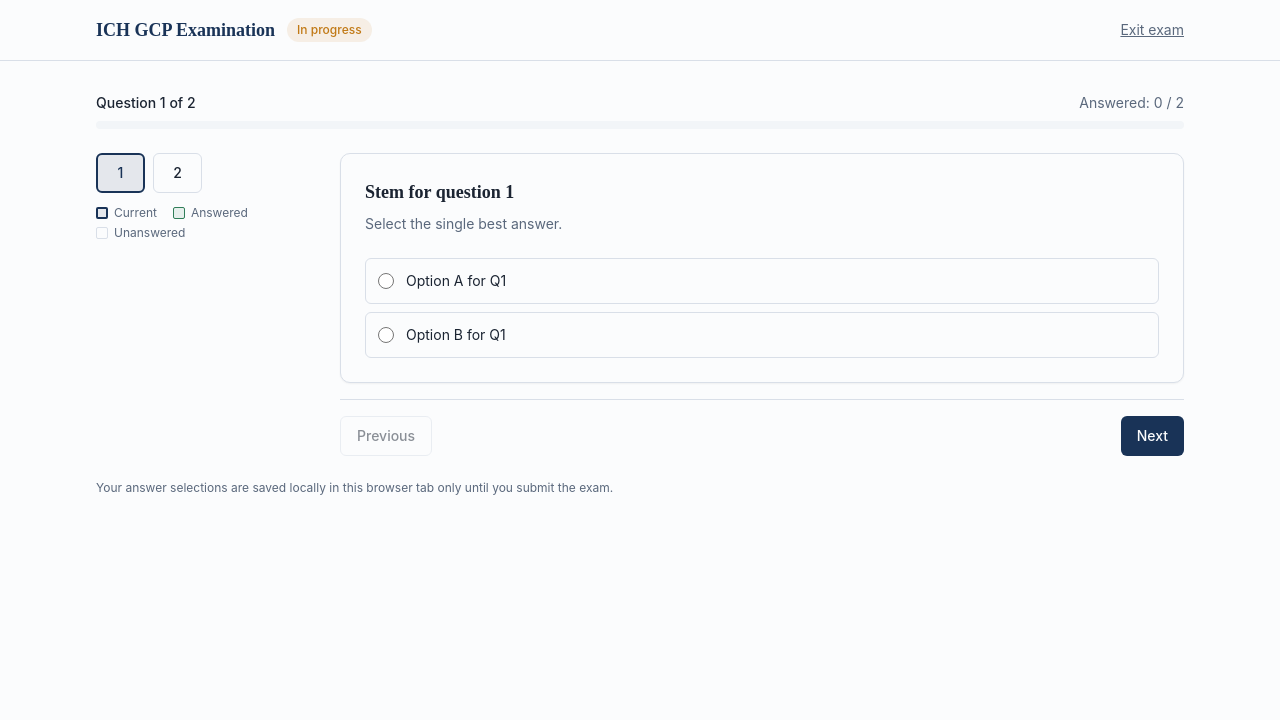
it: Exam attempt page › Gate 7D: submission › retains local answers, shows a retryable error, and never claims success on a network failure
Expected: the heading "Stem for question 1" is shown, [365,182,514,202]
Click the button "Next" at coordinates (1152, 436), box [1121,416,1184,456]
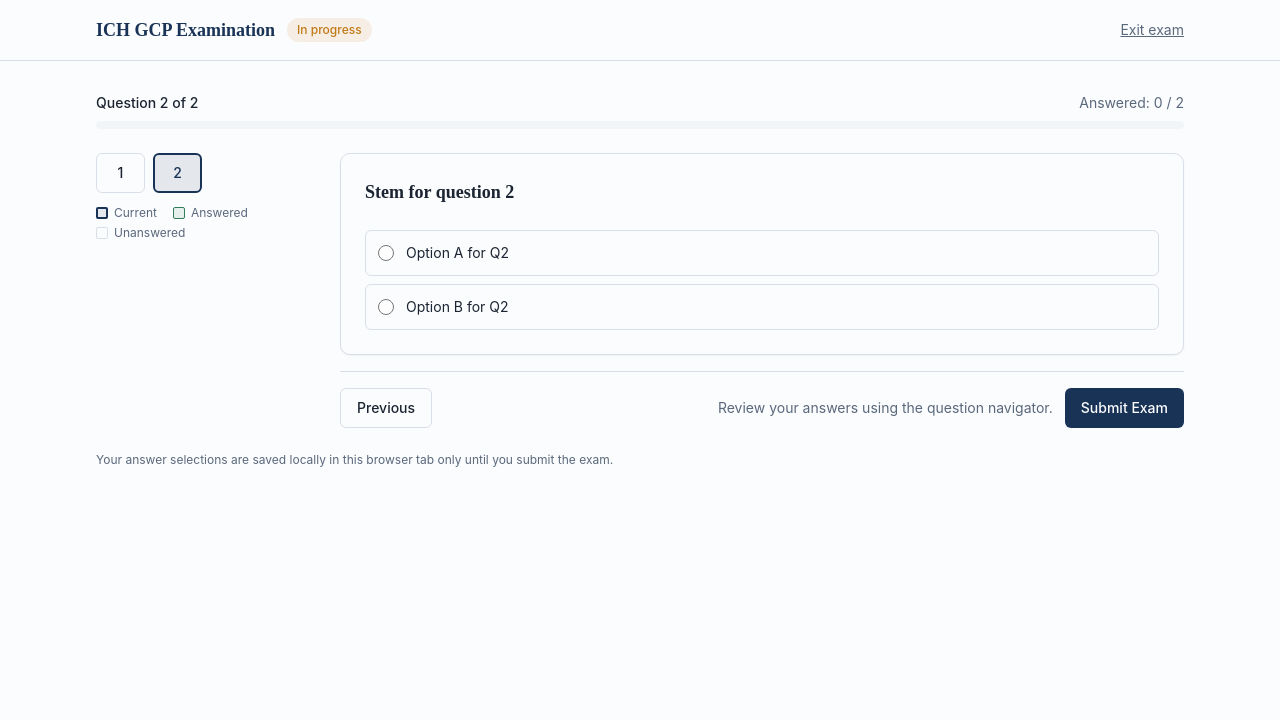
Expected: the heading "Stem for question 2" is shown, [365,182,514,202]
Click the radio button labelled "Option A for Q2" at coordinates (386, 253), box [378,245,394,261]
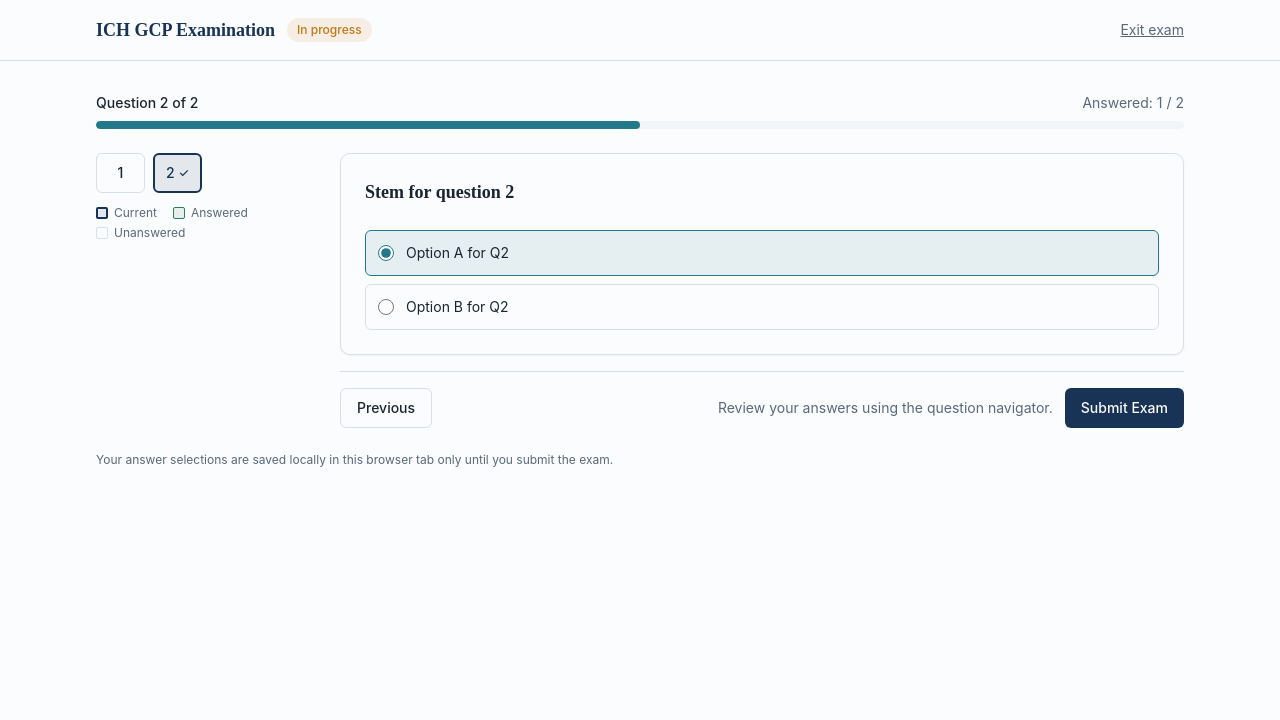
Click the button "Submit Exam" at coordinates (1124, 408), box [1065,388,1184,428]
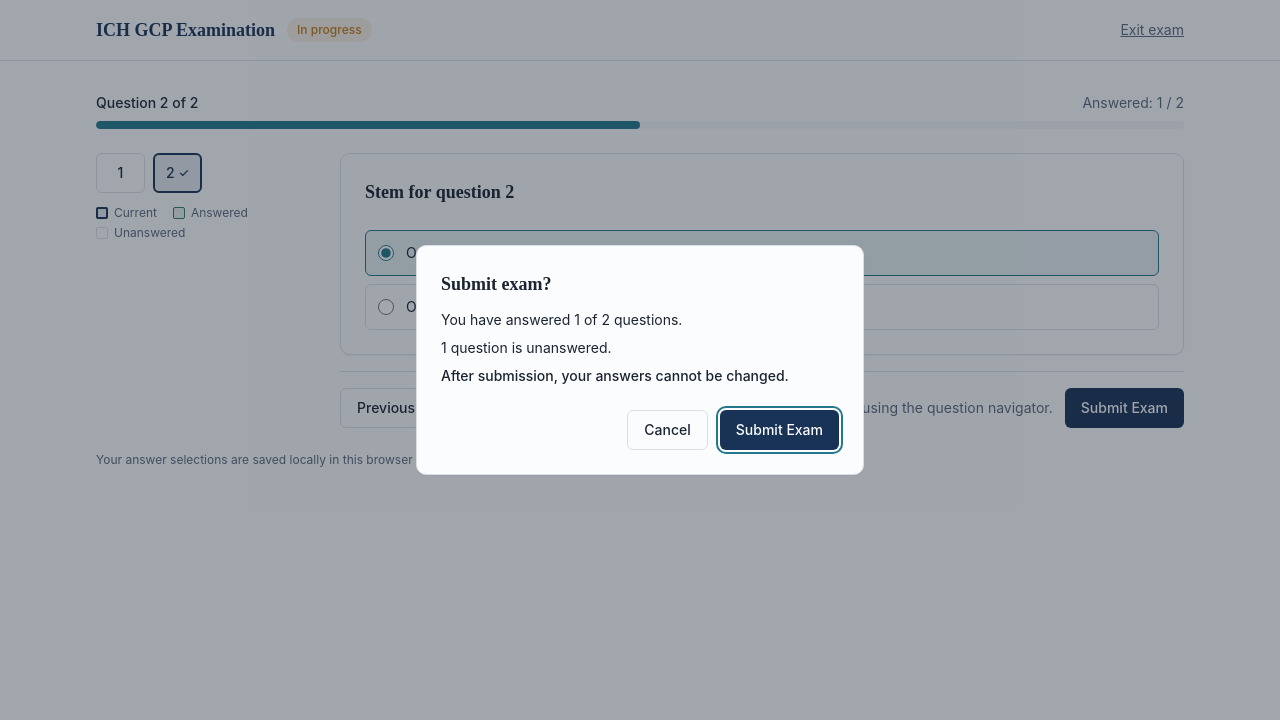
Click the button "Submit Exam" at coordinates (779, 430), box [720,410,839,450]
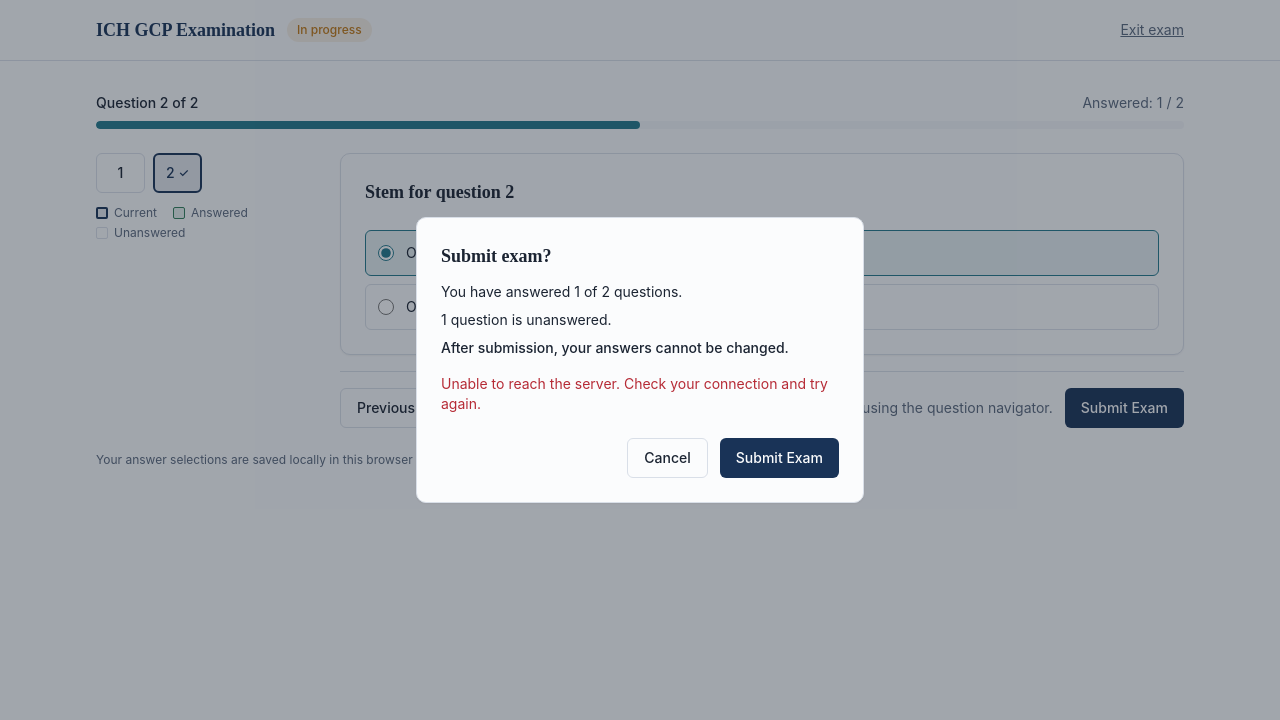
Expected: the dialog is shown, [416,217,864,503]
Expected: the message "Unable to reach the server. Check your connection and try again." is shown, [441,374,839,414]
Expected: the message shows "Unable to reach the server", [441,375,828,412]
Click the button "Submit Exam" at coordinates (779, 458), box [720,438,839,478]
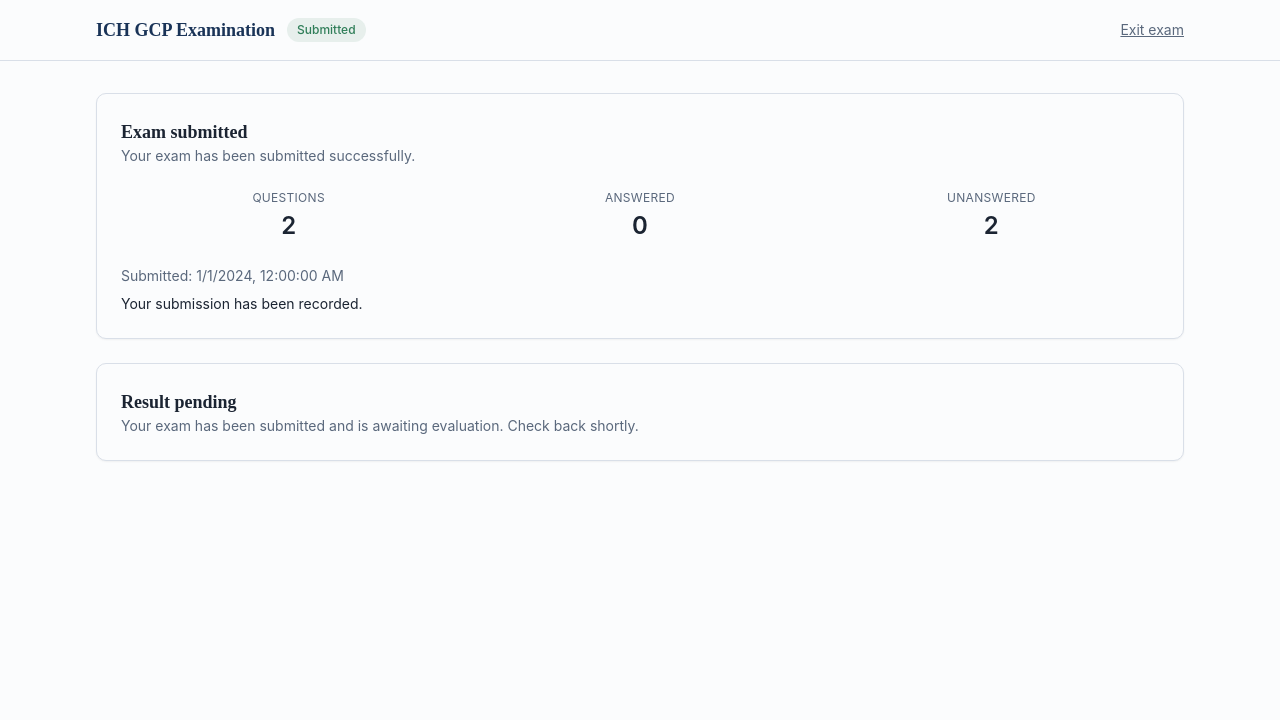
Expected: the heading "Exam submitted" is shown, [121,122,248,142]
